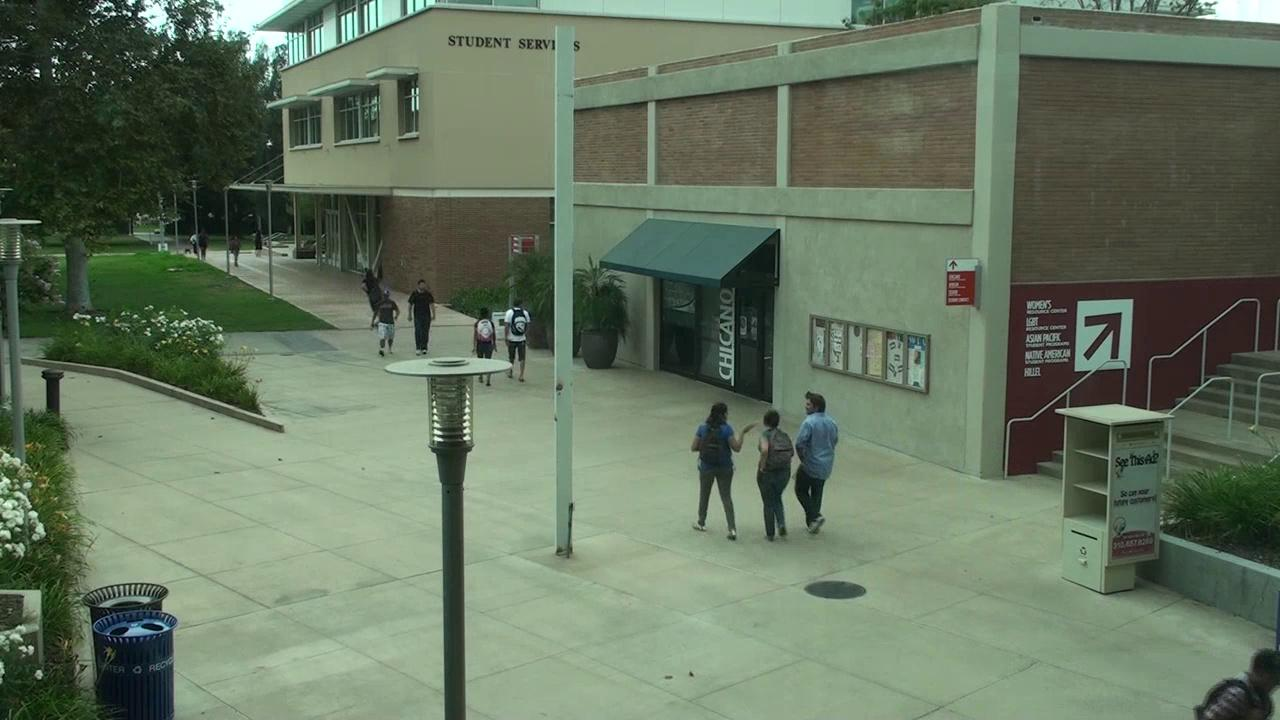person: (690, 402, 754, 539), (794, 392, 838, 532), (505, 298, 530, 381), (408, 279, 434, 354), (370, 290, 398, 353), (473, 308, 497, 358), (765, 430, 794, 468), (228, 235, 241, 266), (254, 230, 262, 256)
